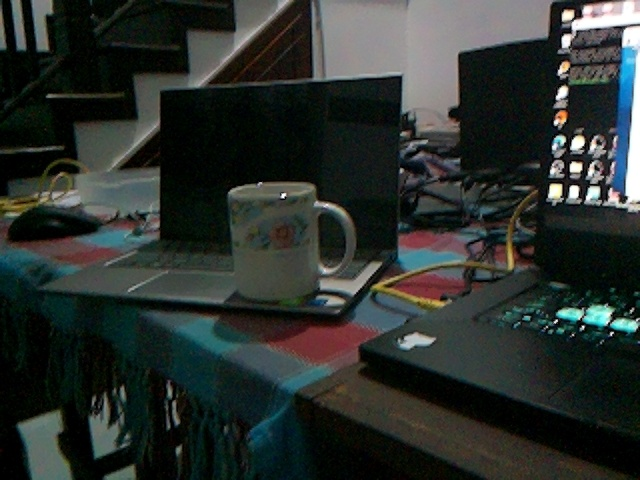mug: (225, 177, 358, 305)
